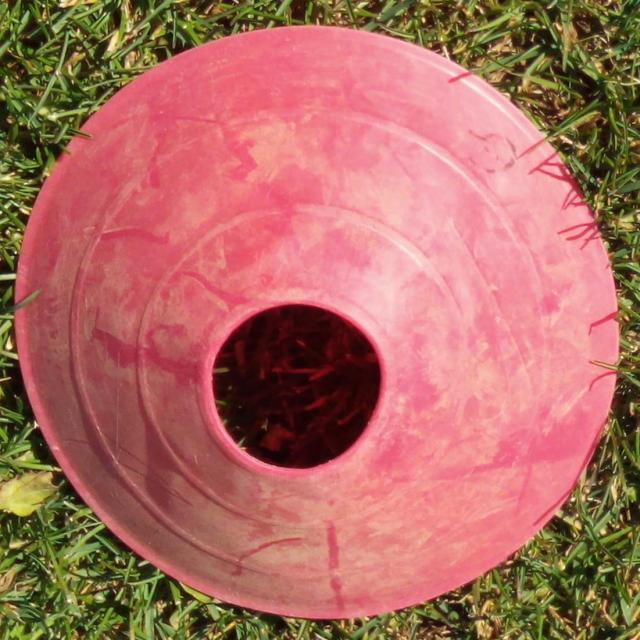litter: (13, 26, 631, 618)
